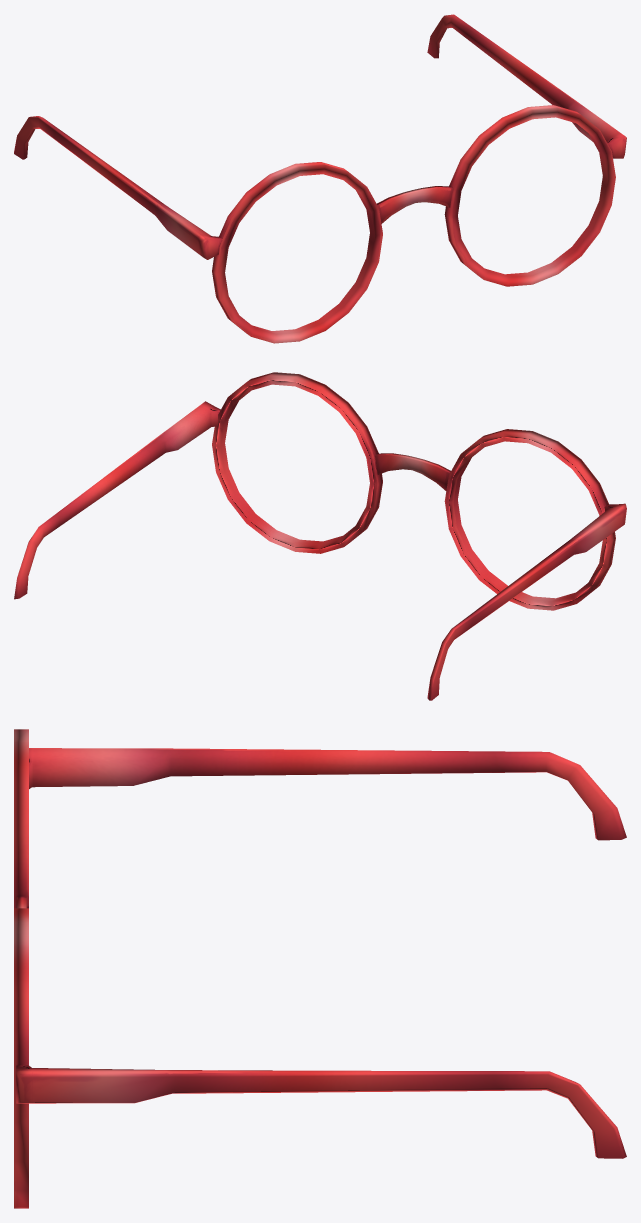
The model's file is Glasses_Red01.fbx.
3 views of the same model, one above another, from view 1: azimuth 30°, elevation 25°; view 2: azimuth 150°, elevation 25°; view 3: azimuth 270°, elevation 25° (orthographic). The views are drawn at different scales.
Parts seen in each view (by area): view 1: Glasses_Red; view 2: Glasses_Red; view 3: Glasses_Red.
Boxes of the visible parts, x1,y1,x2,y2 form: Glasses_Red: [14, 14, 626, 343]; Glasses_Red: [14, 372, 626, 700]; Glasses_Red: [14, 729, 626, 1208].
Bounding box in the file's own units: 1.1 × 0.4304 × 0.8718.
